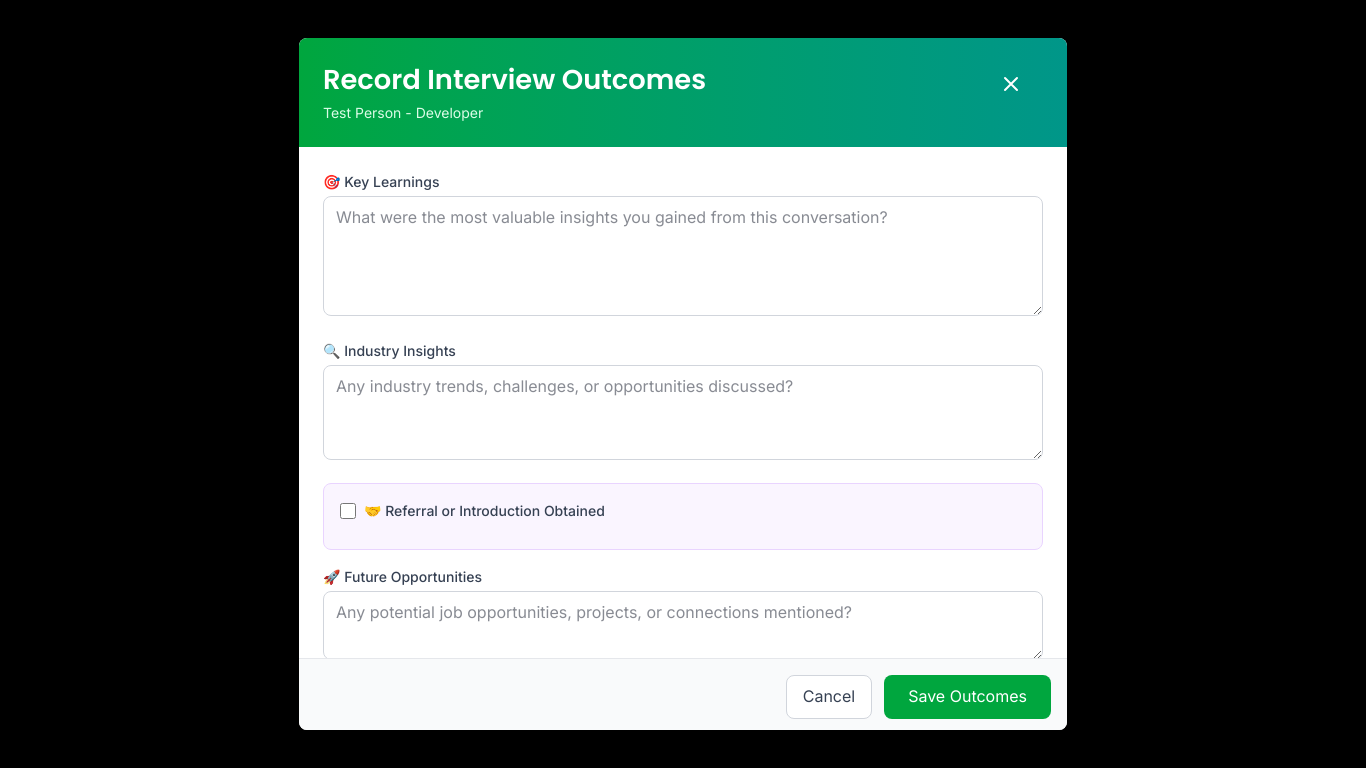
Scenario: OutcomeModal › has referral checkbox that toggles referral details
Expected: the field with placeholder "Who were you referred to" is not shown
Click the checkbox labelled "🤝 Referral or Introduction Obtained". click: x=348, y=511
box: [340,503,356,519]
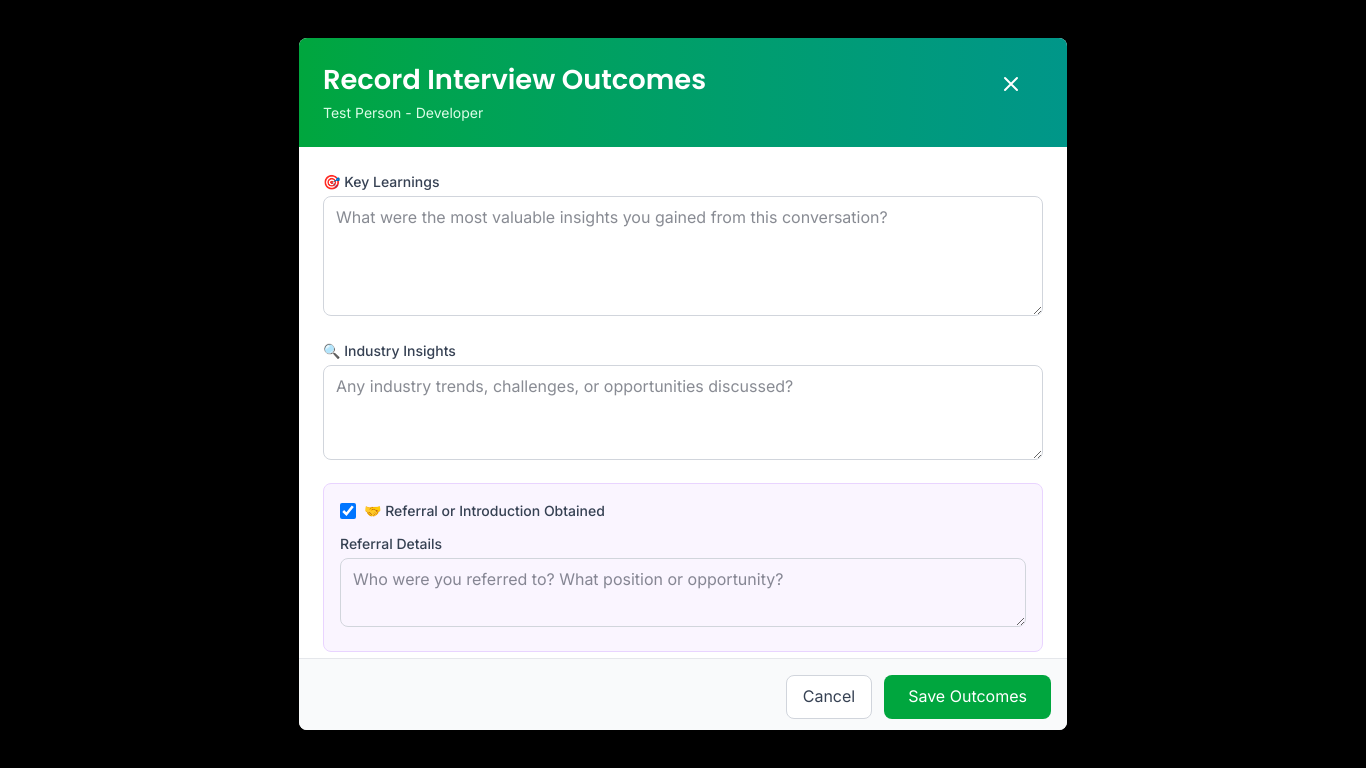
Expected: the text box with placeholder "Who were you referred to? What position or opportunity?" is shown, [340,558,1026,628]
